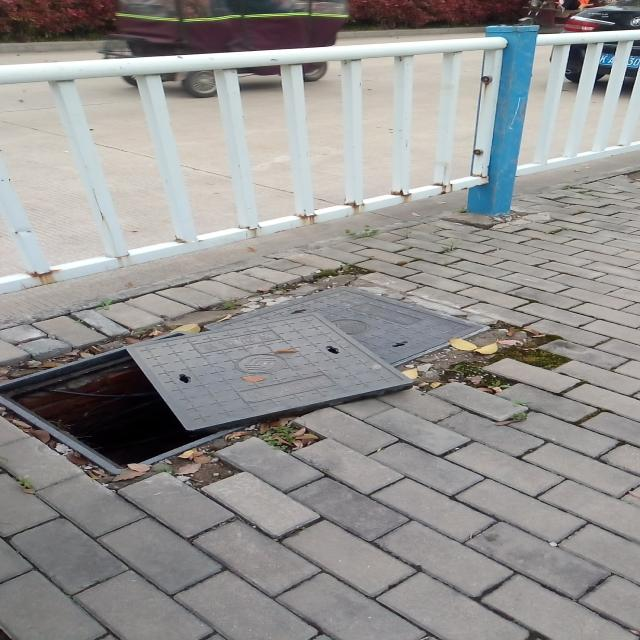Lose: (1, 286, 489, 473)
